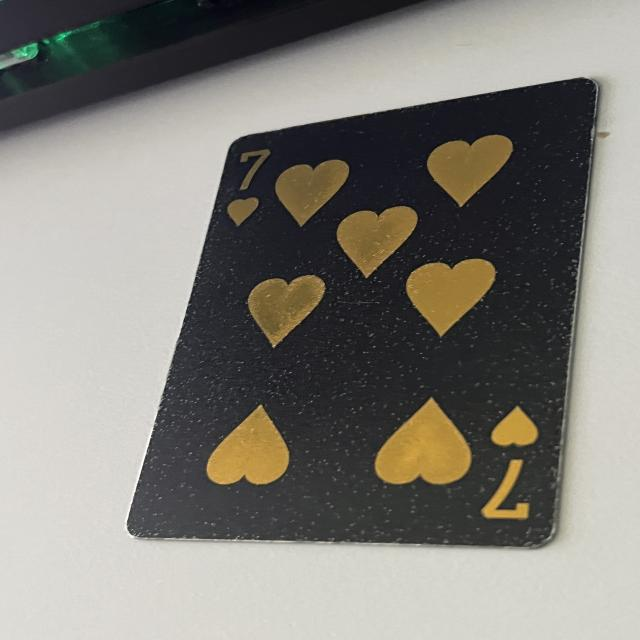7H: (477, 405, 540, 526), (224, 147, 275, 231)
